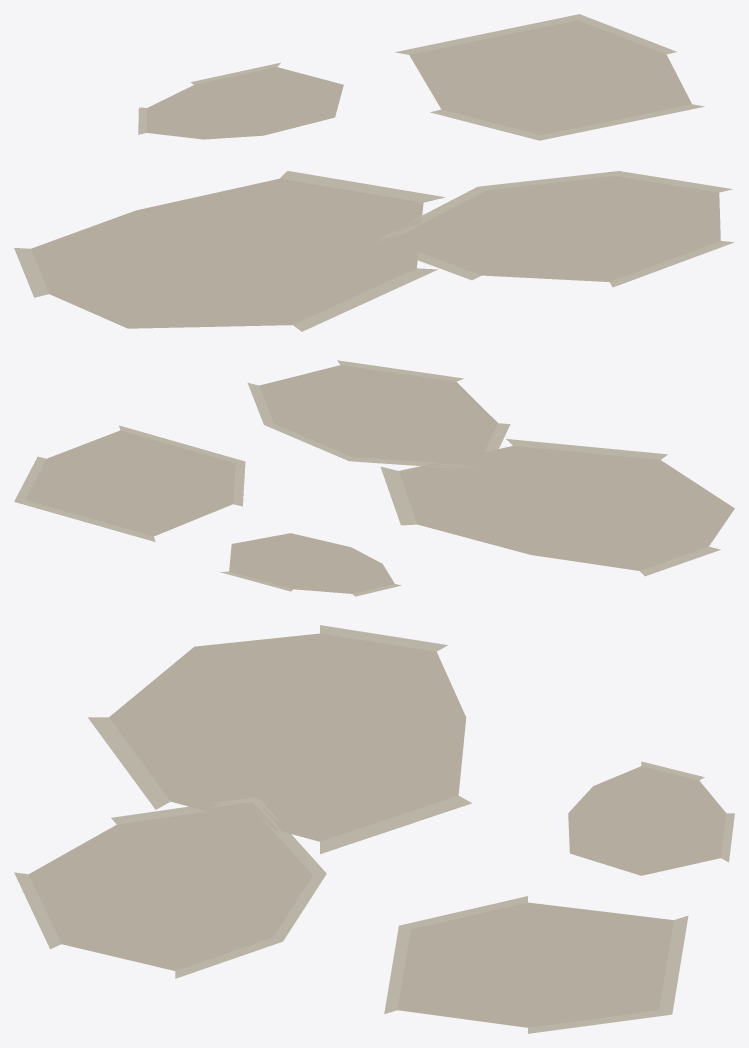
File: SM_MS3_PortableFeed_1.fbx
3 views of the same model, one above another, from view 1: azimuth 30°, elevation 25°; view 2: azimuth 150°, elevation 25°; view 3: azimuth 270°, elevation 25° (orthographic). The views are drawn at different scales.
Visible parts, largest first — view 1: SM_MS3_PortableFeed_1; view 2: SM_MS3_PortableFeed_1; view 3: SM_MS3_PortableFeed_1.
Part boxes in pixels (x1,y1,x2,y2): SM_MS3_PortableFeed_1: (14, 14, 733, 331); SM_MS3_PortableFeed_1: (14, 360, 734, 596); SM_MS3_PortableFeed_1: (14, 625, 734, 1033).
Size of the model in its own units: 1.54 by 1.14 by 0.
